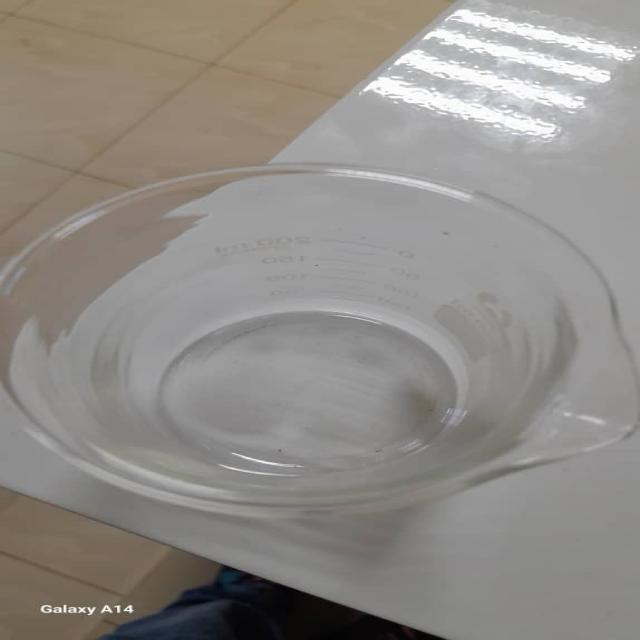Beakers: (9, 169, 640, 508)
